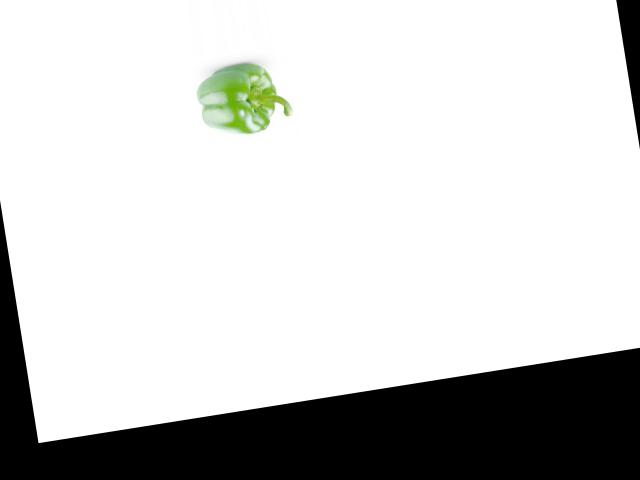bell_pepper: (190, 58, 297, 142)
